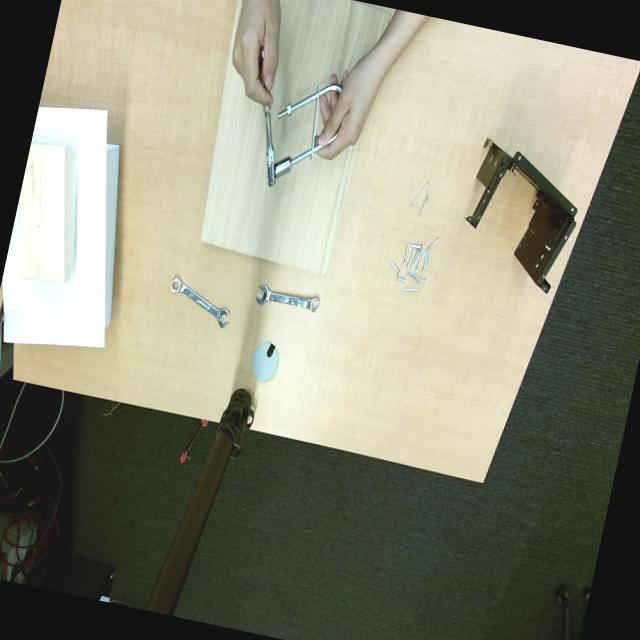wrench: (170, 276, 229, 327), (256, 283, 319, 312), (263, 104, 275, 185)
